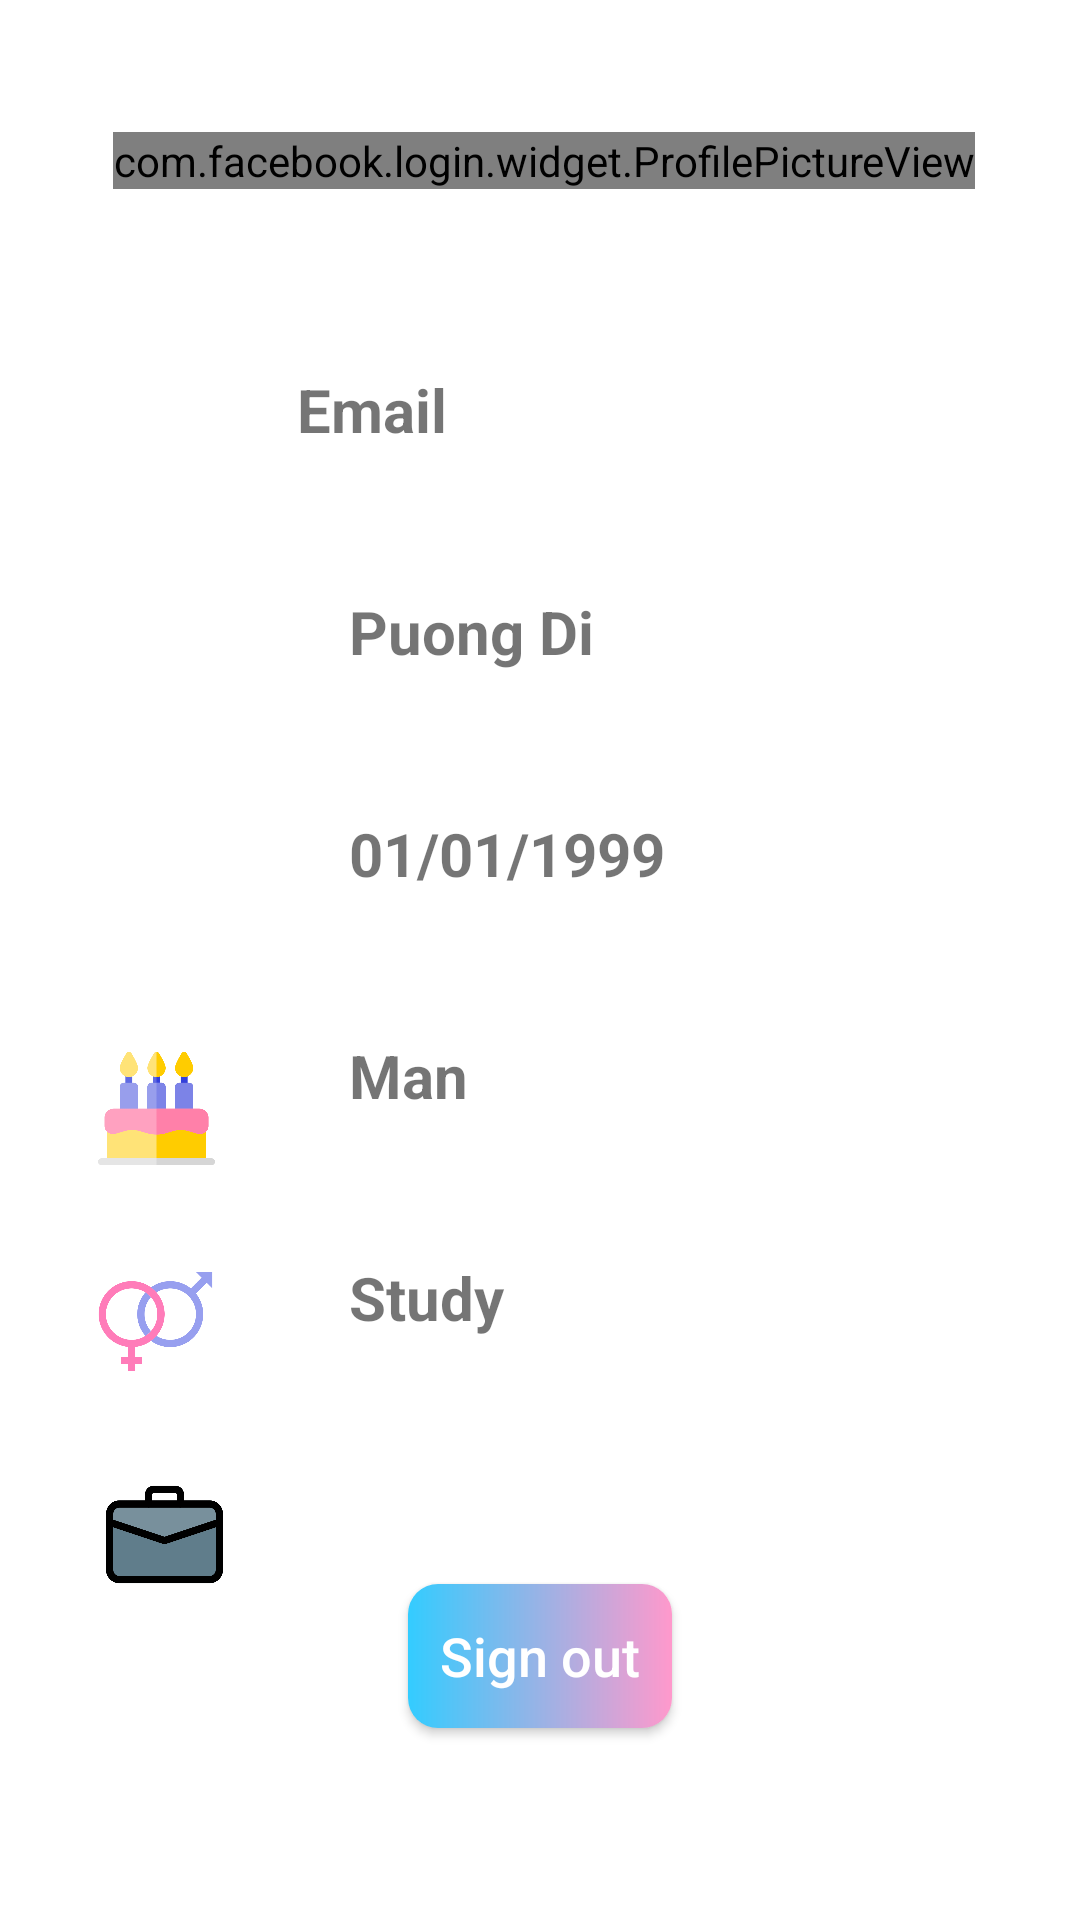

Locate icon controls on the screen. Image size 1080w x 1920h, boxes as (x1, y1, x2, y2).
bcake: (98, 1052, 215, 1165)
sex: (99, 1272, 212, 1371)
suitcasez: (106, 1486, 223, 1583)
